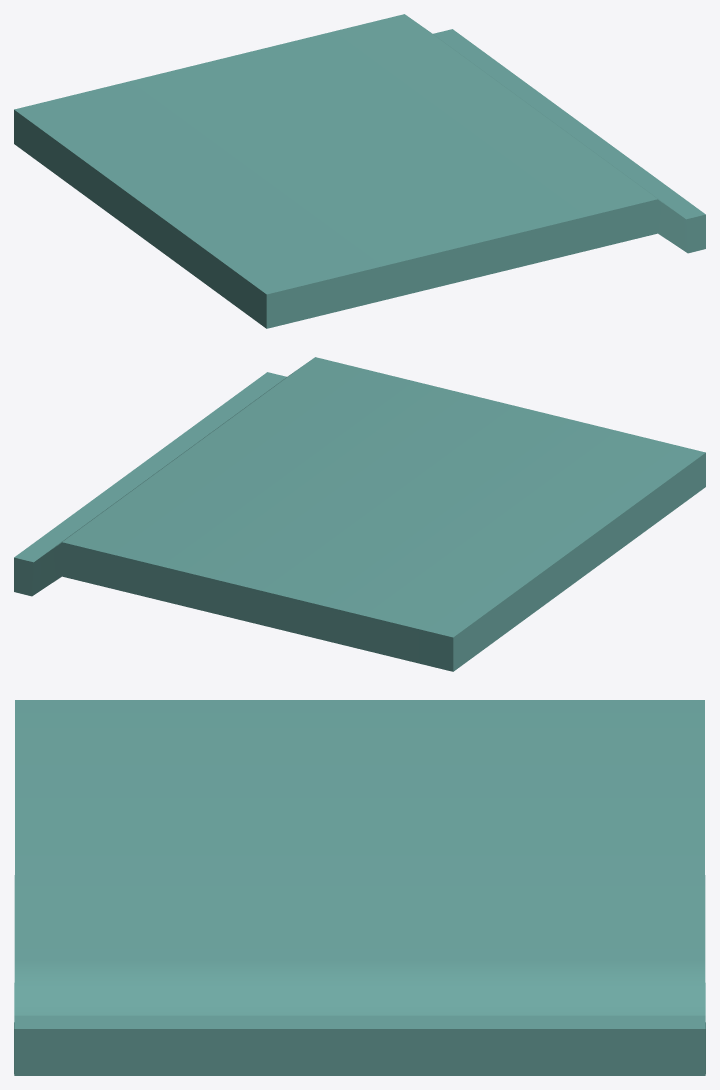
Rendered from CeilingLeftRight.fbx.
3 renders of one model, top to bottom at view 1: azimuth 30°, elevation 25°; view 2: azimuth 150°, elevation 25°; view 3: azimuth 270°, elevation 25°, orthographic. The views are drawn at different scales.
Parts seen in each view (by area): view 1: CeilingTile1; view 2: CeilingTile1; view 3: CeilingTile1.
Boxes of the visible parts, bbox=[...] form: CeilingTile1: bbox=[14, 14, 705, 328]; CeilingTile1: bbox=[14, 357, 705, 671]; CeilingTile1: bbox=[14, 700, 705, 1075].
Size of the model in its own units: 1 by 0.1335 by 1.
